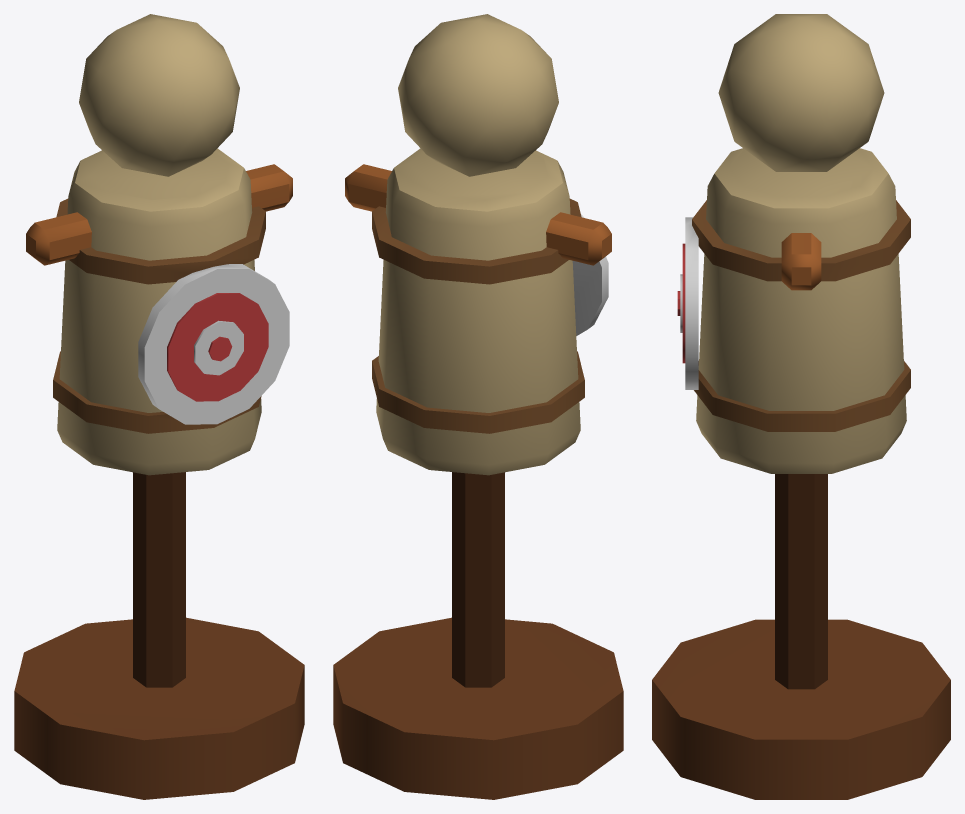
Rendered from p_dummy.glb.
The picture shows the model from 3 angles, left to right: view 1: azimuth 30°, elevation 25°; view 2: azimuth 150°, elevation 25°; view 3: azimuth 270°, elevation 25°; orthographic projection.
Parts seen in each view (by area): view 1: sway_dummy, body; view 2: sway_dummy, body; view 3: sway_dummy, body.
Part boxes in pixels (bbox=[...]): sway_dummy: bbox=[26, 14, 292, 475]; body: bbox=[14, 472, 304, 799]; sway_dummy: bbox=[345, 14, 611, 475]; body: bbox=[333, 472, 623, 799]; sway_dummy: bbox=[677, 14, 910, 473]; body: bbox=[652, 474, 950, 799].
Bounding box in the file's own units: 0.9 × 2.4 × 0.9.
